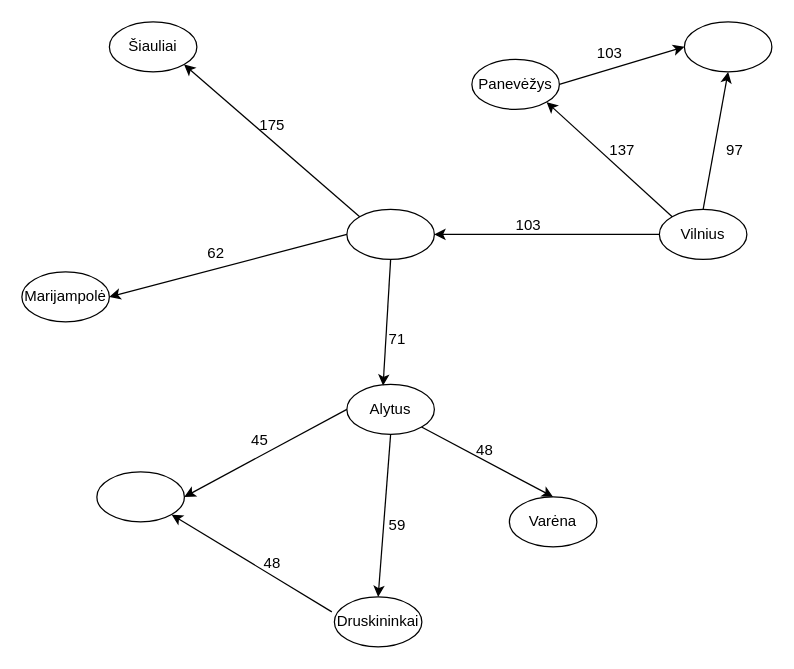
Image size: 794x669. Some labels were removed from this diagram. Each missing label, with the centre of its shape:
Kaunas: the point at 390,233
Lazdijai: the point at 140,496
Utena: the point at 727,46
